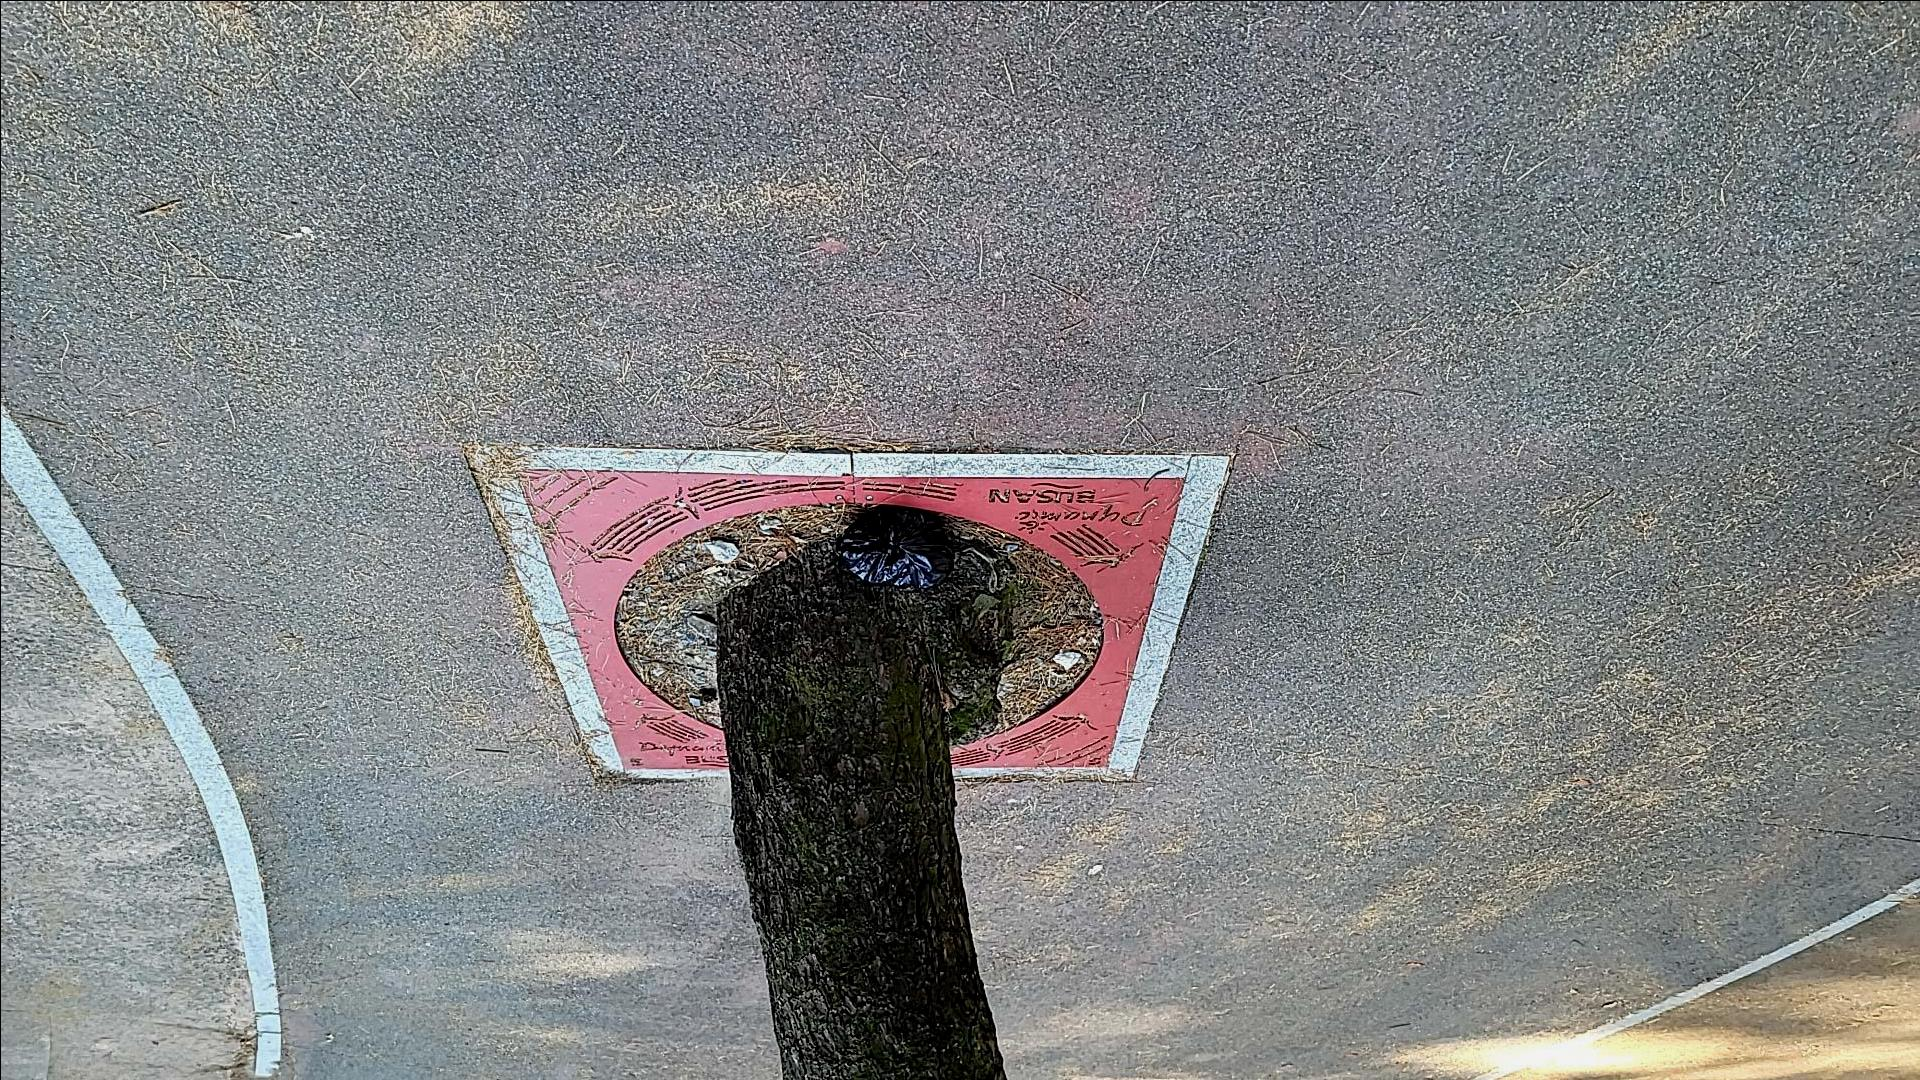black_bag: (835, 501, 963, 595)
